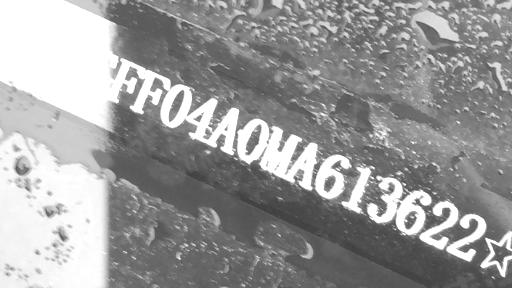letter: (258, 121, 304, 177), (102, 55, 150, 104), (418, 197, 462, 250), (52, 36, 98, 85), (444, 210, 488, 261), (31, 23, 75, 74), (126, 68, 172, 113), (282, 140, 320, 190), (367, 174, 405, 223), (395, 187, 433, 234), (84, 48, 122, 95), (159, 80, 195, 129), (205, 103, 239, 153), (314, 151, 350, 198), (184, 95, 220, 141), (234, 116, 270, 162), (340, 162, 372, 212)
